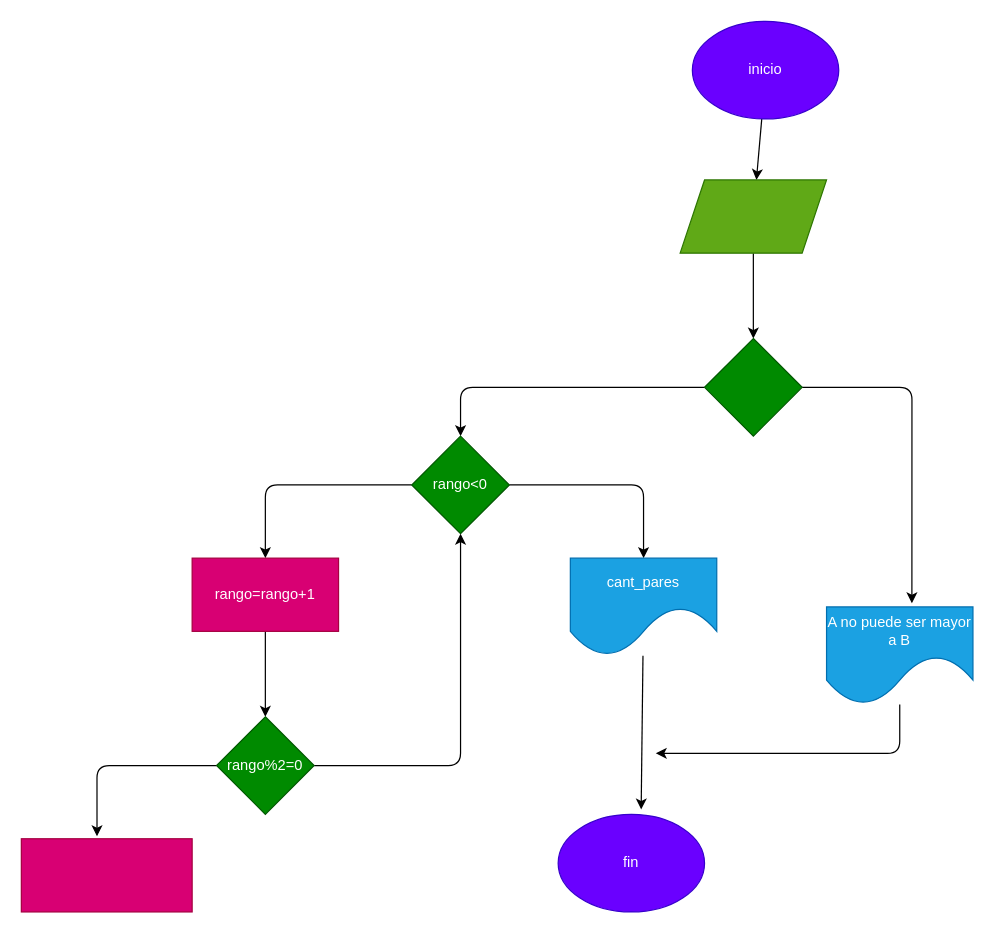
Some shapes in this 994 by 933 pixel diagram are drawn without their labels. The box of each missing label's shape, as (x1, y1, x2, y2) in pixels:
A,B cant_pares=0 rango=A: (679, 179, 827, 253)
A<B: (703, 337, 802, 436)
cant_pares=cant_pares+1: (20, 838, 192, 912)
